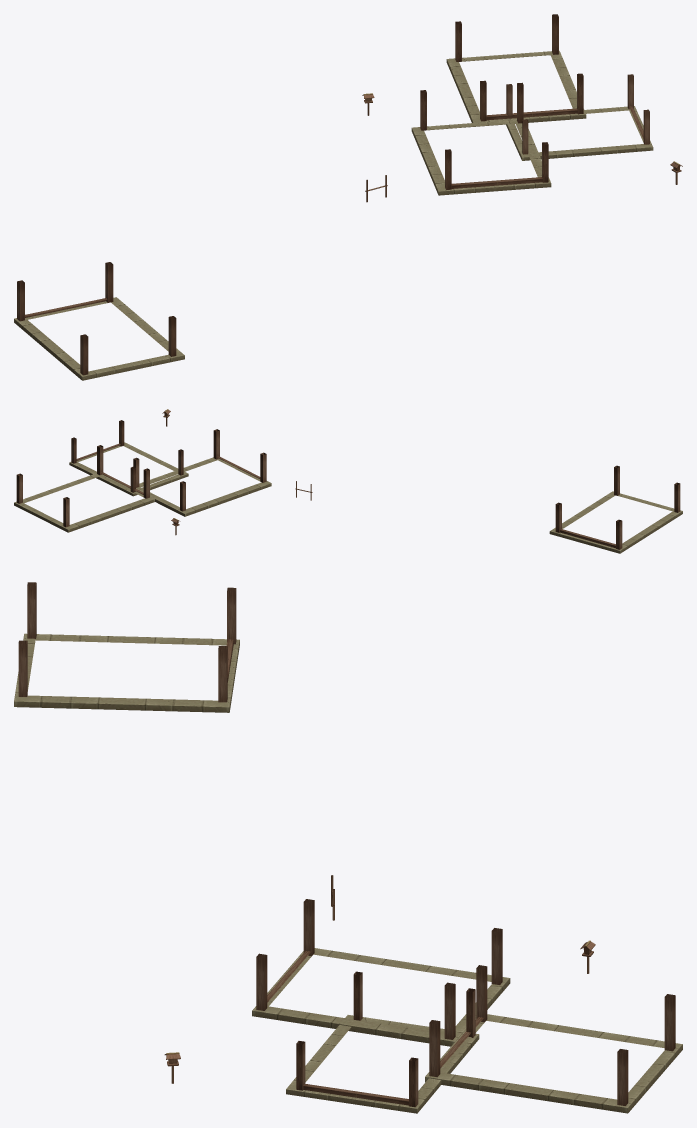
File: Area_11_39.fbx
3 renders of one model, top to bottom at view 1: azimuth 30°, elevation 25°; view 2: azimuth 150°, elevation 25°; view 3: azimuth 270°, elevation 25°, orthographic. The views are drawn at different scales.
Visible parts, largest first — view 1: Area_11_39; view 2: Area_11_39; view 3: Area_11_39.
Part boxes in pixels (left/top/right/bottom): Area_11_39: left=14, top=14, right=682, bottom=380; Area_11_39: left=14, top=409, right=682, bottom=553; Area_11_39: left=14, top=582, right=682, bottom=1113.
Size of the model in its own units: 7457 by 433 by 4444.
